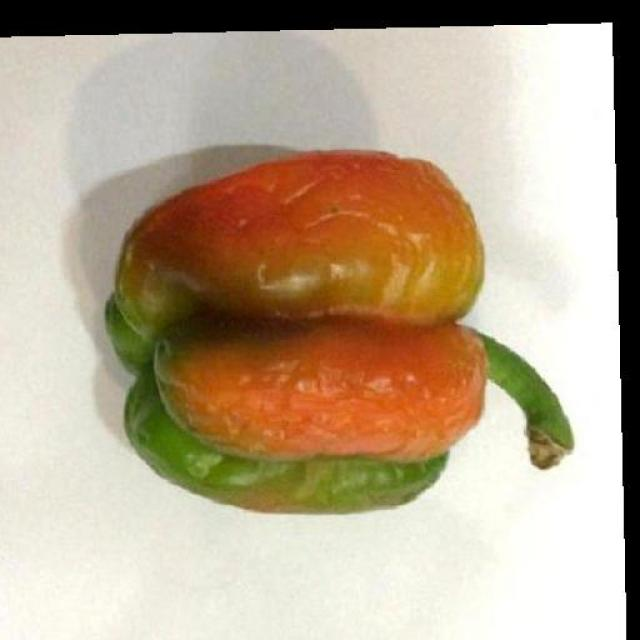Stale_Capsicum: (129, 149, 559, 572)
